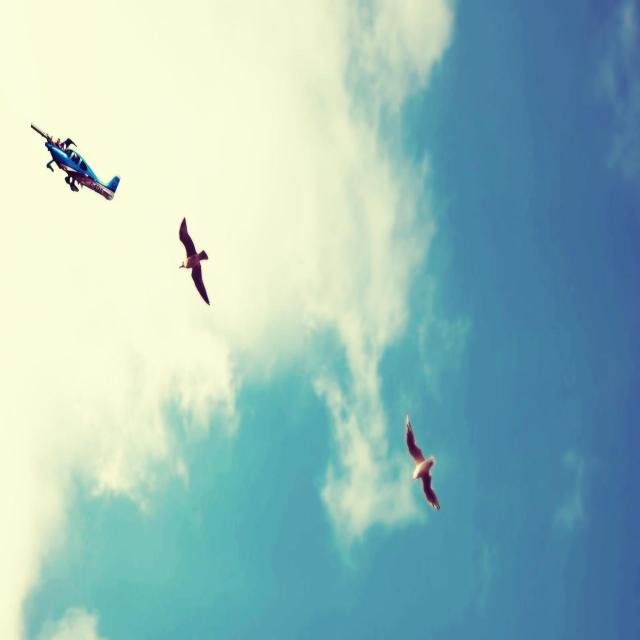airplane: (30, 121, 120, 201)
